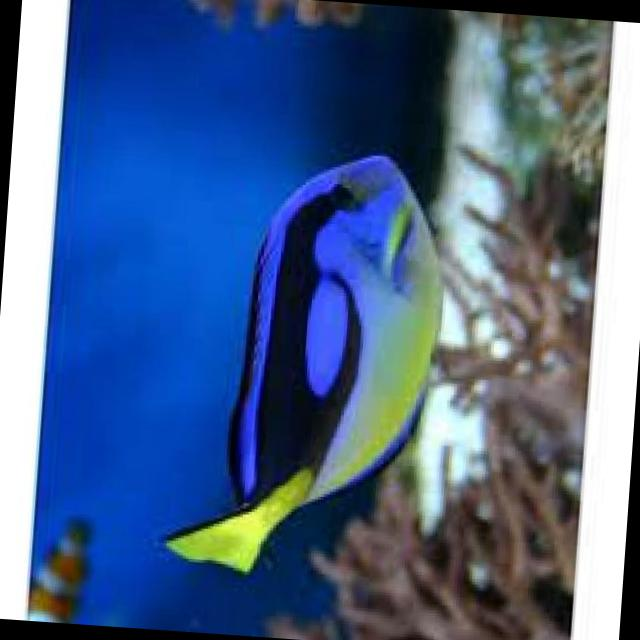BlueTang: (170, 151, 438, 582)
